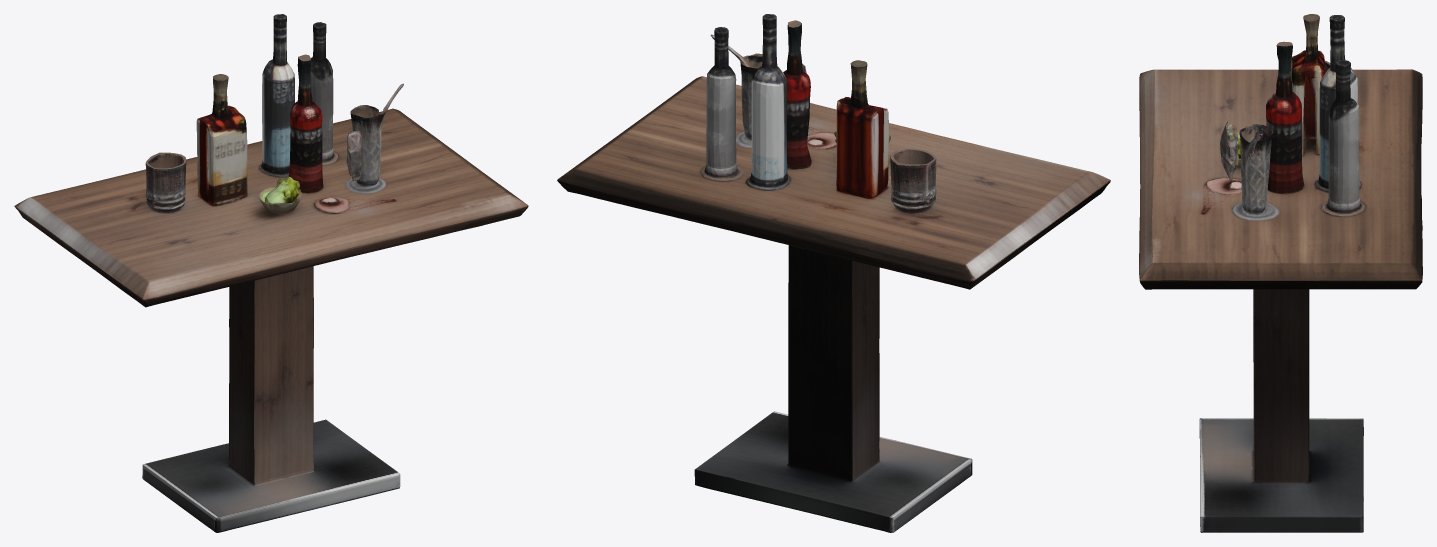
File: trellis_1789132728849_efjum.glb
3 renders of one model, left to right at view 1: azimuth 30°, elevation 25°; view 2: azimuth 150°, elevation 25°; view 3: azimuth 270°, elevation 25°, orthographic. The views are drawn at different scales.
Parts seen in each view (by area): view 1: world; view 2: world; view 3: world.
Part boxes in pixels (bbox=[...]): world: bbox=[14, 14, 528, 532]; world: bbox=[557, 14, 1110, 532]; world: bbox=[1139, 14, 1422, 532].
Bounding box in the file's own units: 0.9175 × 1 × 0.5309.
1 material, 1 textured.
